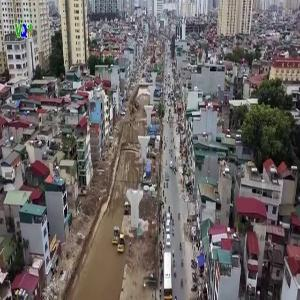drone: (182, 39, 208, 65)
